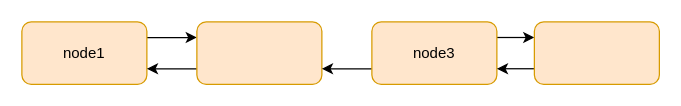
The diagram is 681 pixels wide and 106 high, and some of its shapes have lost their labels. Each missing label, with the centre of its shape:
node2: [259,52]
node4: [596,52]
